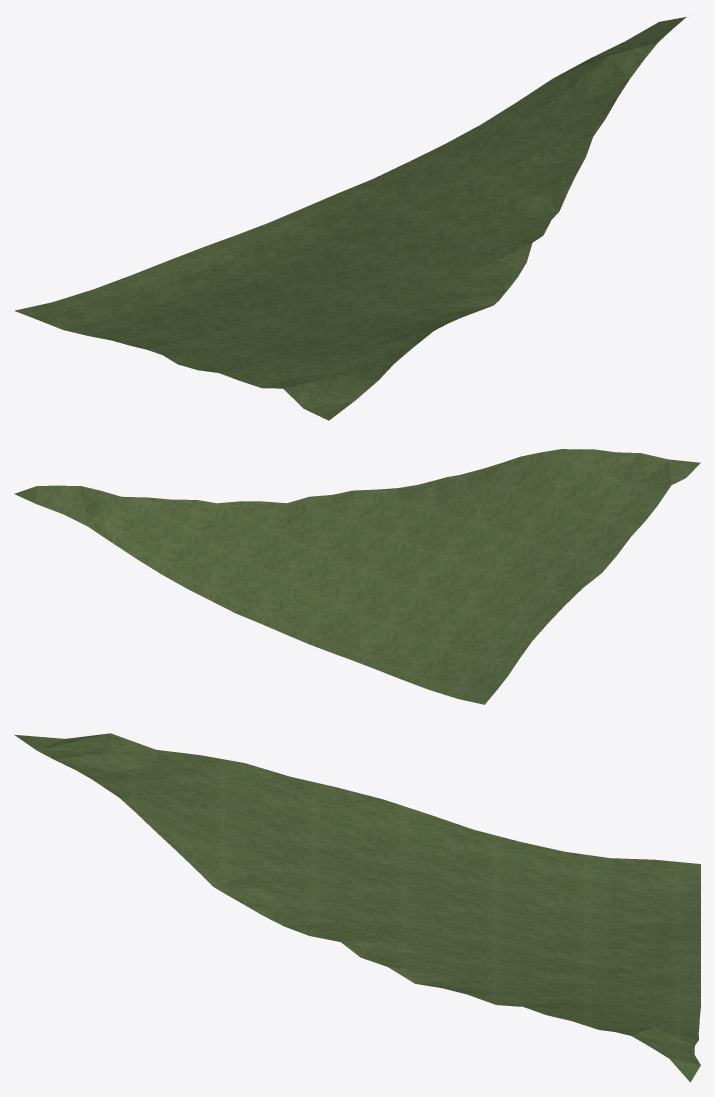
The model's file is a_carisle_mid_landmass_02_14.fbx.
3 renders of one model, top to bottom at view 1: azimuth 30°, elevation 25°; view 2: azimuth 150°, elevation 25°; view 3: azimuth 270°, elevation 25°, orthographic. The views are drawn at different scales.
Parts seen in each view (by area): view 1: a_carisle_mid_landmass_02_14; view 2: a_carisle_mid_landmass_02_14; view 3: a_carisle_mid_landmass_02_14.
Boxes of the visible parts, x1,y1,x2,y2 form: a_carisle_mid_landmass_02_14: (14,17,686,420); a_carisle_mid_landmass_02_14: (14,449,700,704); a_carisle_mid_landmass_02_14: (14,733,700,1082).
Size of the model in its own units: 38.91 by 30.8 by 7.85.
